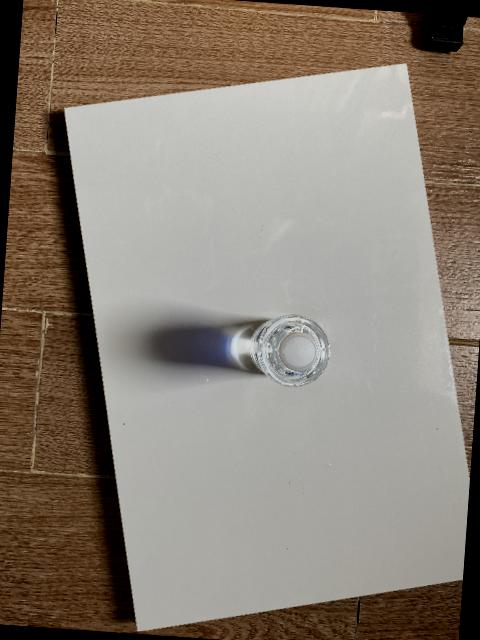aquafina: (249, 312, 329, 386)
